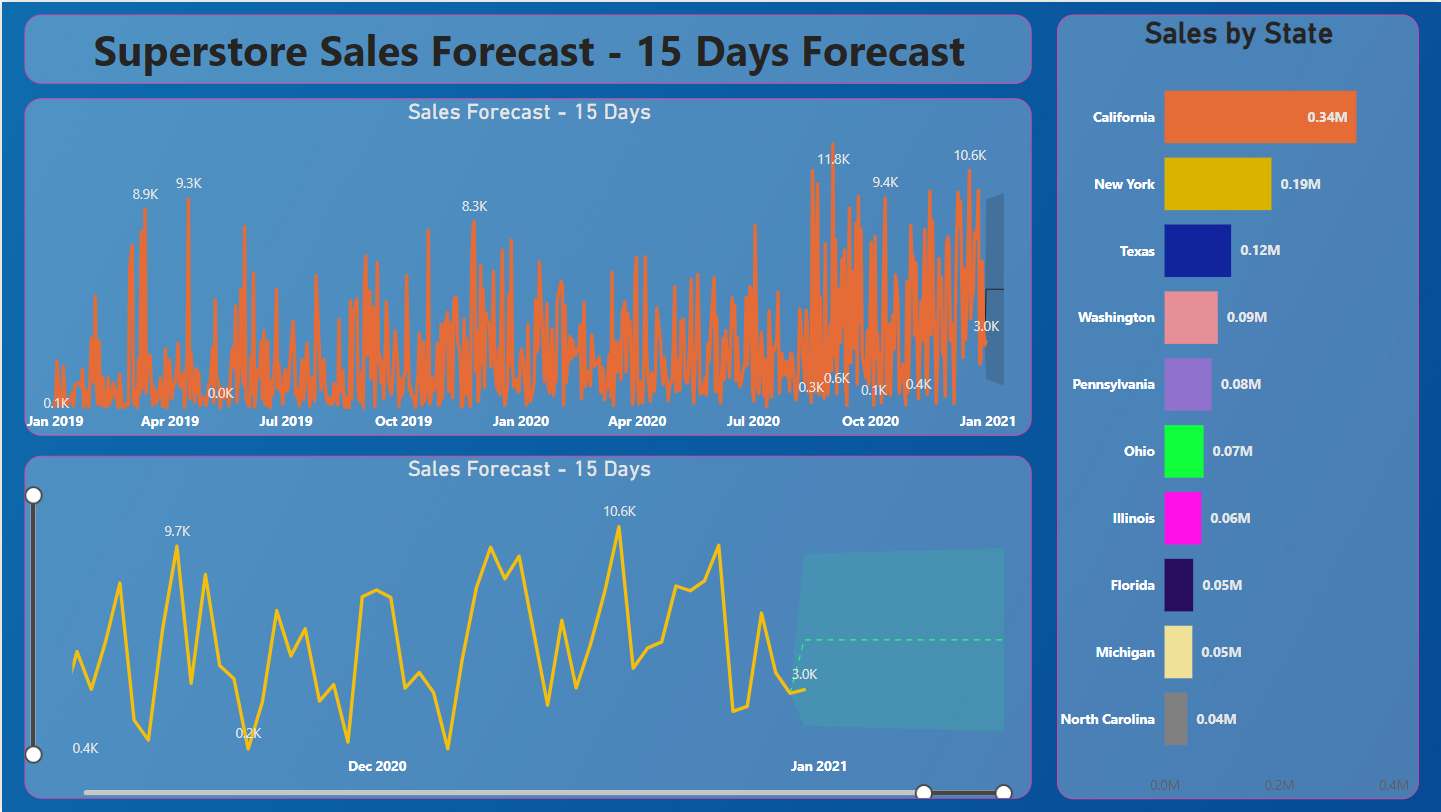

The page's visual inventory and layout, read from the dashboard file:
{"tool":"powerbi","page":{"name":"Forecast","canvas":[1280,720],"ordinal":1},"visuals":[{"type":"lineChart","title":"Sales Forecast - 15 Days","fields":{"Y":["Sum(SuperStore_Sales_Dataset.Sales)"],"Category":["SuperStore_Sales_Dataset.F Order Date"]},"box":[20,85,895,300],"z":0},{"type":"lineChart","title":"Sales Forecast - 15 Days","fields":{"Y":["Sum(SuperStore_Sales_Dataset.Sales)"],"Category":["SuperStore_Sales_Dataset.F Order Date"]},"box":[20,403.8,895,305],"z":1000},{"type":"clusteredBarChart","title":"Sales by State","fields":{"Category":["SuperStore_Sales_Dataset.State"],"Y":["Sum(SuperStore_Sales_Dataset.Sales)"]},"box":[937.5,11.2,321.2,697.5],"z":2000},{"type":"textbox","box":[20,11.2,895,61.2],"z":4000}]}

Visuals, with their boxes in screenshot pixels (x1, y1, x2, y2), scaled from the page's 1280x720 canvas onto the 1441x812 screenshot:
"Sales Forecast - 15 Days" lineChart: x1=23, y1=96, x2=1030, y2=434
"Sales Forecast - 15 Days" lineChart: x1=23, y1=455, x2=1030, y2=799
"Sales by State" clusteredBarChart: x1=1055, y1=13, x2=1417, y2=799
textbox: x1=23, y1=13, x2=1030, y2=82
